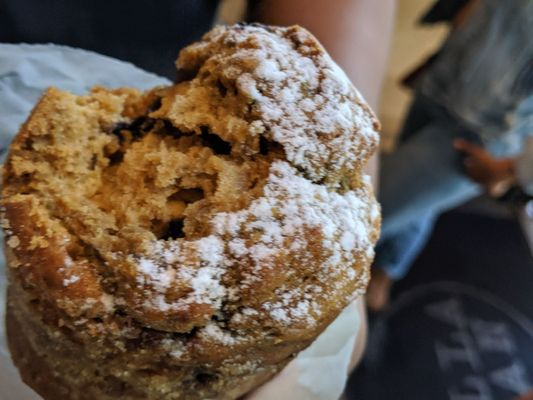salad: (0, 18, 384, 400)
